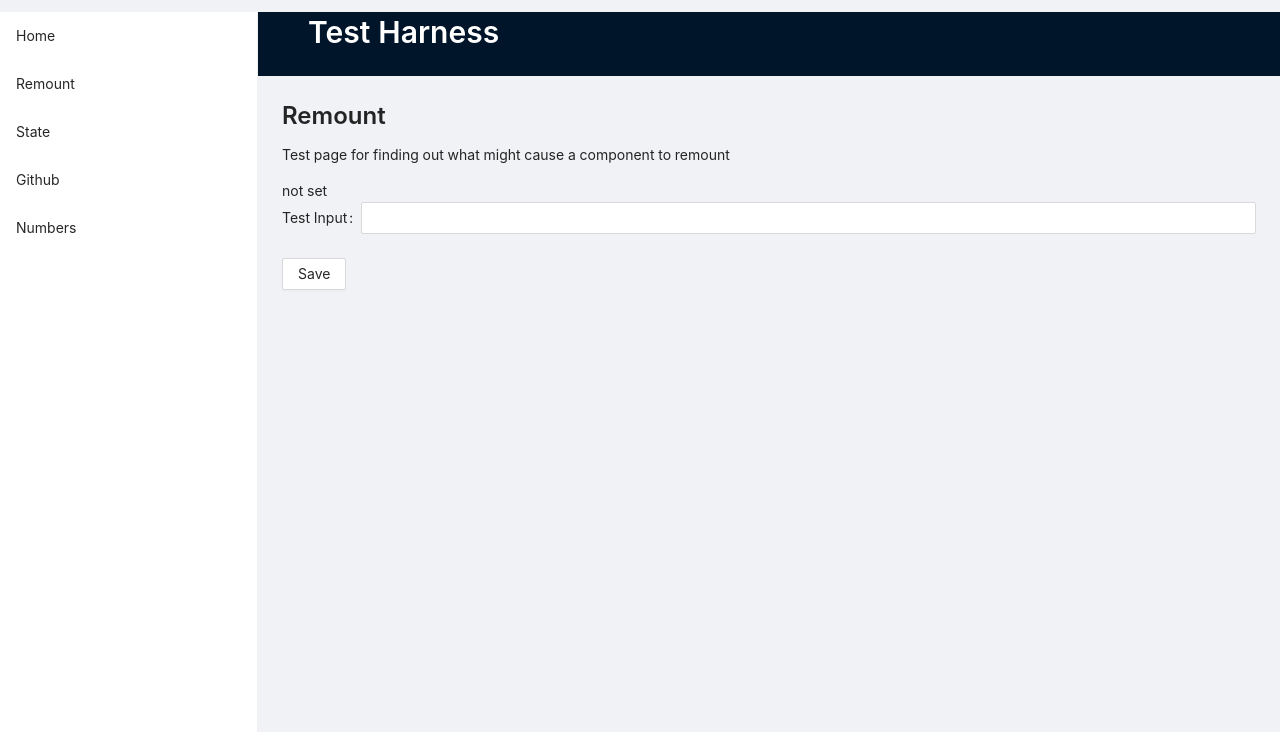
Test: Remount › Shows typed characters on the page
Type "Test" into the field with id "testInput" at (809, 218), box [361,202,1256,234]
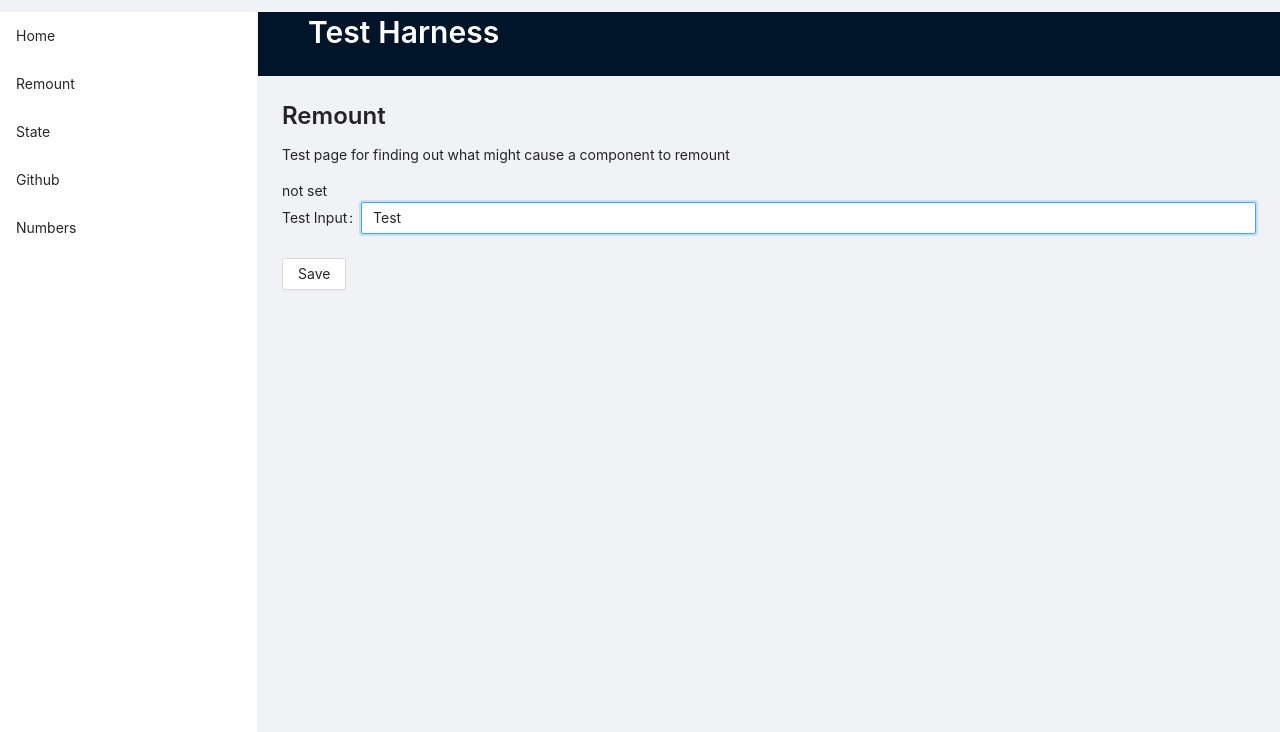
Click the button "Save" at (314, 274), box [282,258,346,290]
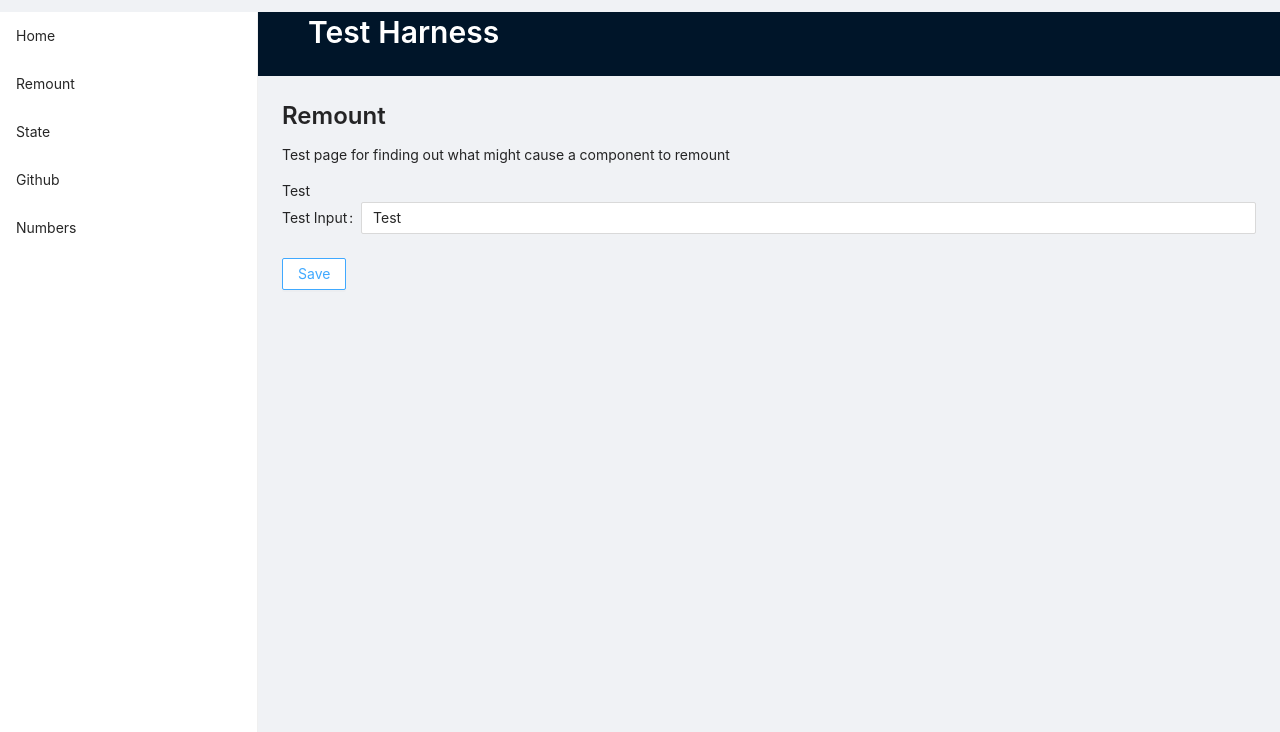
expect the text "Test" is shown: met, box [282,182,310,199]
